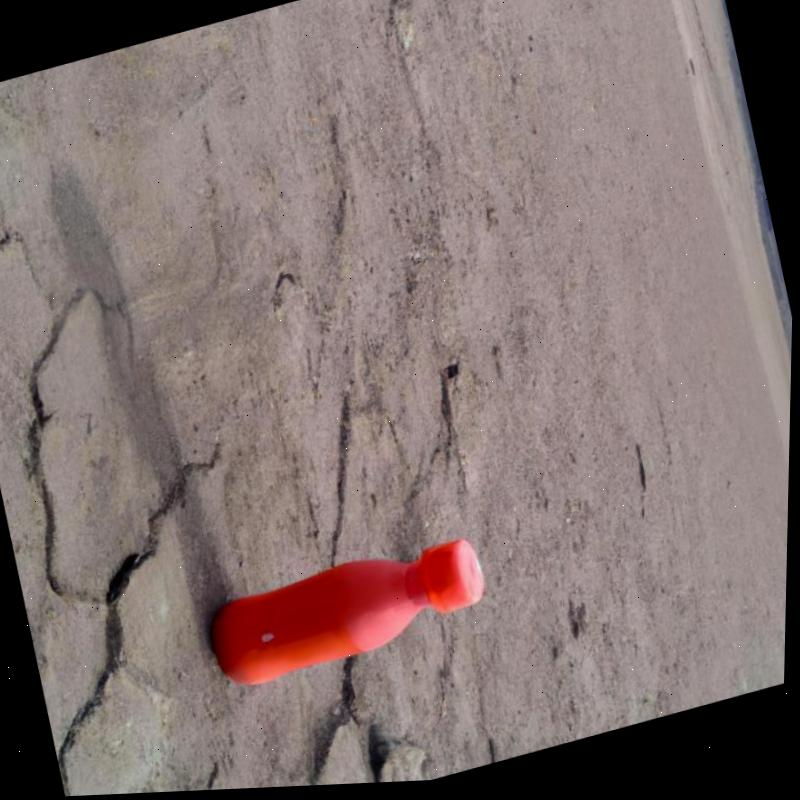botella: (201, 532, 495, 699)
